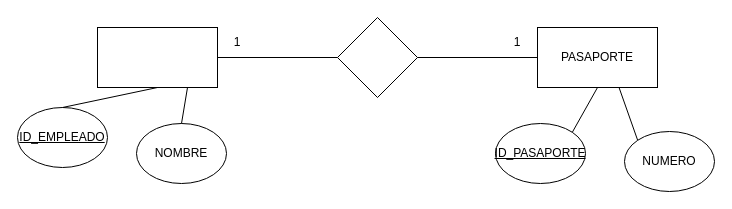
Some shapes in this 732 by 209 pixel diagram are drawn without their labels. The centre of each missing label's shape, as x and y in pixels:
EMPLEADO: (157,57)
TIENE: (377,57)
